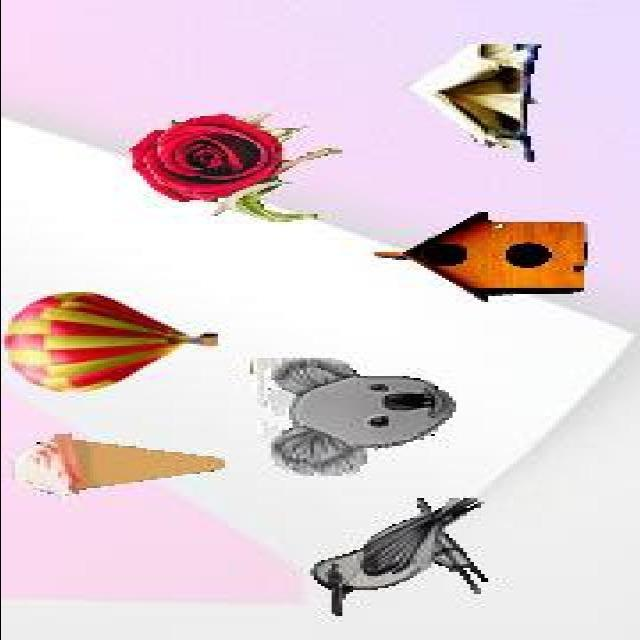Other Objects: (126, 114, 342, 222), (0, 292, 219, 395), (308, 497, 486, 617)
